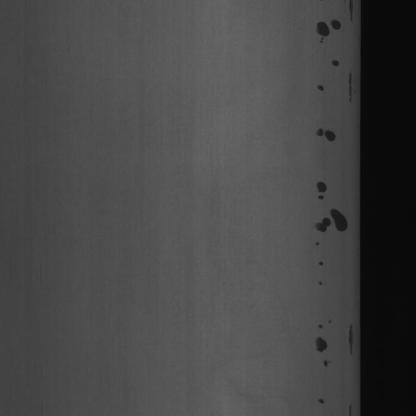oil_spot: (308, 174, 351, 256), (312, 1, 356, 46), (312, 122, 343, 154), (313, 333, 337, 372), (344, 321, 357, 356), (316, 257, 326, 302), (314, 80, 330, 105), (345, 70, 356, 100), (314, 389, 328, 407), (344, 398, 355, 416), (330, 49, 341, 66)
